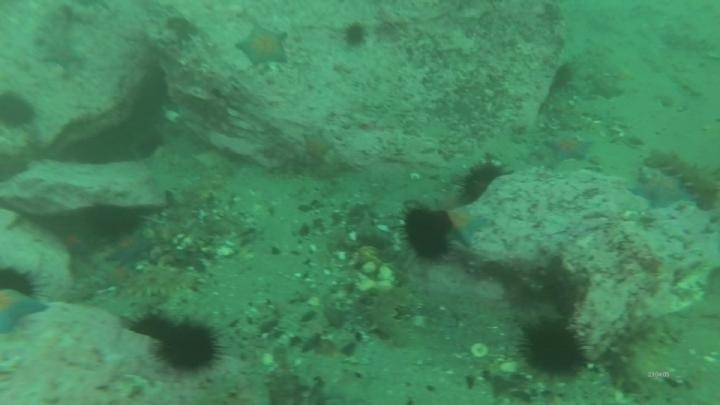echinus: (516, 316, 589, 380), (155, 319, 223, 375), (400, 205, 454, 263), (456, 159, 506, 205), (87, 204, 142, 242), (127, 311, 176, 344), (0, 89, 37, 130), (0, 263, 40, 300), (133, 130, 165, 161), (340, 20, 370, 50), (550, 61, 577, 93)
holothurian: (607, 312, 665, 396), (646, 145, 720, 210), (362, 284, 414, 348), (121, 262, 203, 302), (657, 27, 718, 56)
starfish: (627, 170, 697, 212), (234, 23, 290, 69), (0, 287, 50, 336), (442, 205, 491, 249), (106, 228, 154, 266), (543, 131, 594, 165), (38, 38, 85, 72), (53, 225, 95, 259), (299, 128, 336, 164), (586, 74, 626, 102), (99, 260, 135, 289)
